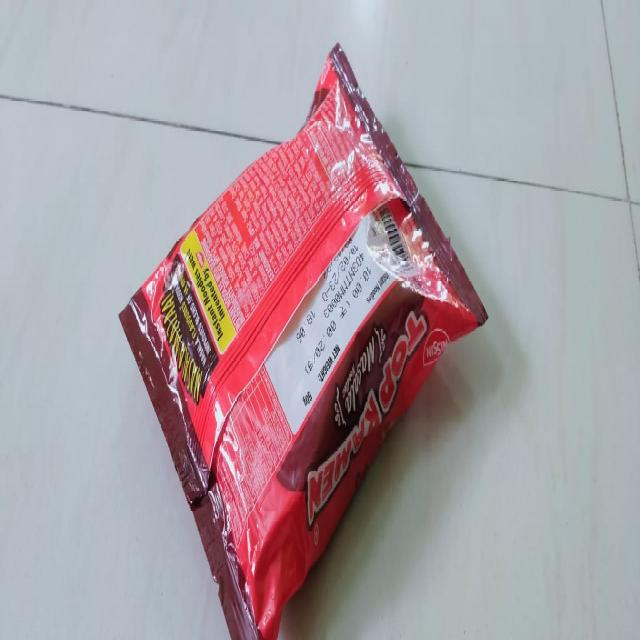maggi: (118, 41, 488, 630)
